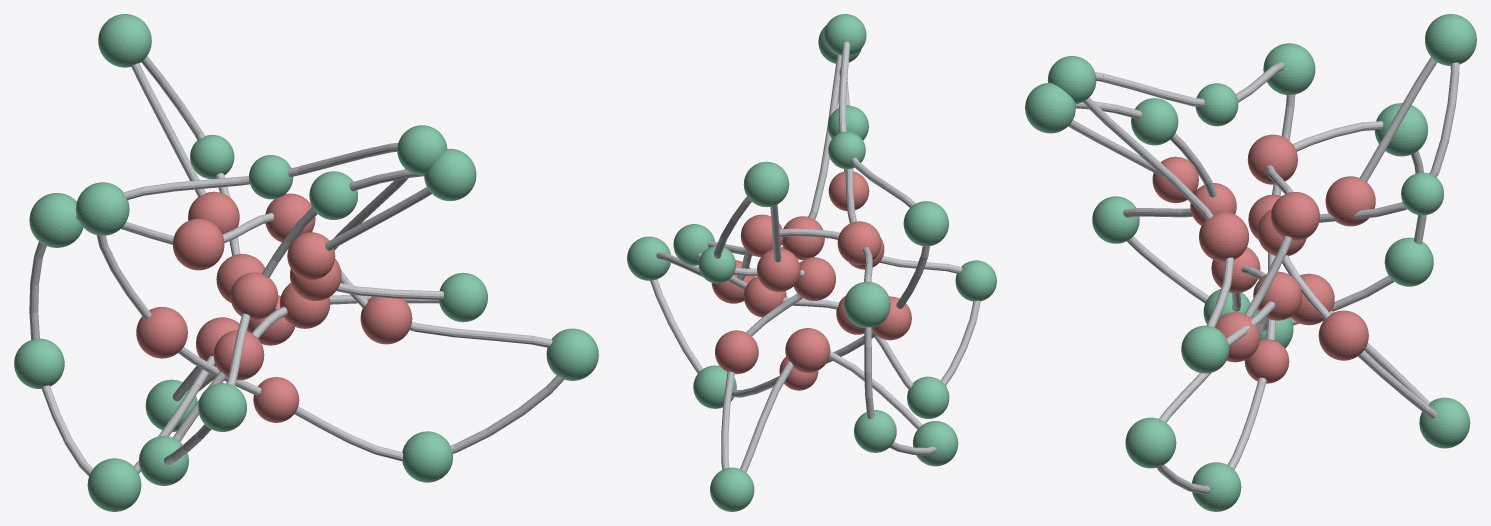
File: proteina_1_30aa_4792115.glb
The picture shows the model from 3 angles, left to right: view 1: azimuth 30°, elevation 25°; view 2: azimuth 150°, elevation 25°; view 3: azimuth 270°, elevation 25°; orthographic projection. The views are drawn at different scales.
Visible parts, largest first — view 1: geometry_367, geometry_373, geometry_357, geometry_365, geometry_361, geometry_364, geometry_358, geometry_360, geometry_362, geometry_366, geometry_346, geometry_349 (+18 smaller); view 2: geometry_365, geometry_373, geometry_357, geometry_368, geometry_369, geometry_370, geometry_367, geometry_361, geometry_374, geometry_364, geometry_350, geometry_366 (+16 smaller); view 3: geometry_373, geometry_361, geometry_370, geometry_346, geometry_357, geometry_354, geometry_369, geometry_366, geometry_363, geometry_374, geometry_364, geometry_353 (+18 smaller).
Boxes of the visible parts, x1,y1,x2,y2 form: geometry_367: (87,458,141,511); geometry_373: (98,14,151,67); geometry_357: (76,182,129,235); geometry_365: (29,193,83,247); geometry_361: (546,328,598,380); geometry_364: (172,218,224,270); geometry_358: (136,307,187,358); geometry_360: (402,431,452,482); geometry_362: (360,296,412,344); geometry_366: (14,338,64,388); geometry_346: (424,148,476,200); geometry_349: (198,383,246,431); geometry_365: (844,281,890,327); geometry_373: (743,161,789,207); geometry_357: (903,201,948,246); geometry_368: (785,328,830,372); geometry_369: (710,467,754,511); geometry_370: (715,330,758,374); geometry_367: (913,421,958,466); geometry_361: (627,236,670,280); geometry_374: (757,248,800,291); geometry_364: (837,221,881,264); geometry_350: (907,376,949,418); geometry_366: (854,410,896,452); geometry_373: (1425,14,1476,65); geometry_361: (1125,417,1176,468); geometry_370: (1318,310,1368,360); geometry_346: (1025,82,1075,133); geometry_357: (1263,43,1315,95); geometry_354: (1199,212,1248,261); geometry_369: (1419,397,1470,448); geometry_366: (1384,237,1433,286); geometry_363: (1271,192,1319,240); geometry_374: (1325,176,1375,226); geometry_364: (1247,134,1297,184); geometry_353: (1181,325,1229,373).
Size of the model in its own units: 12.4 by 11.41 by 11.25.
